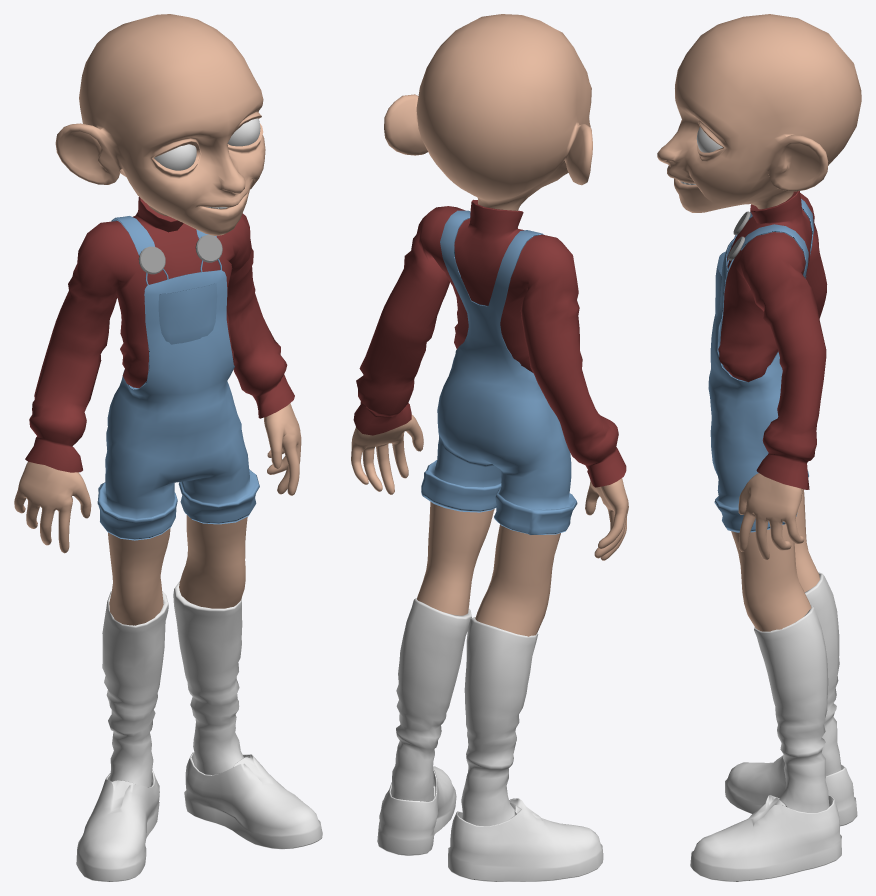
File: Laila_ExportPose_01.fbx
The picture shows the model from 3 angles, left to right: view 1: azimuth 30°, elevation 25°; view 2: azimuth 150°, elevation 25°; view 3: azimuth 270°, elevation 25°; orthographic projection. The views are drawn at different scales.
Visible parts, largest first — view 1: LailaRetopo_Laila_LP; view 2: LailaRetopo_Laila_LP; view 3: LailaRetopo_Laila_LP.
Part boxes in pixels (x1,y1,x2,y2): LailaRetopo_Laila_LP: (14, 14, 322, 881); LailaRetopo_Laila_LP: (351, 14, 628, 881); LailaRetopo_Laila_LP: (657, 14, 861, 881).
Bounding box in the file's own units: 38.07 × 109 × 25.18.
